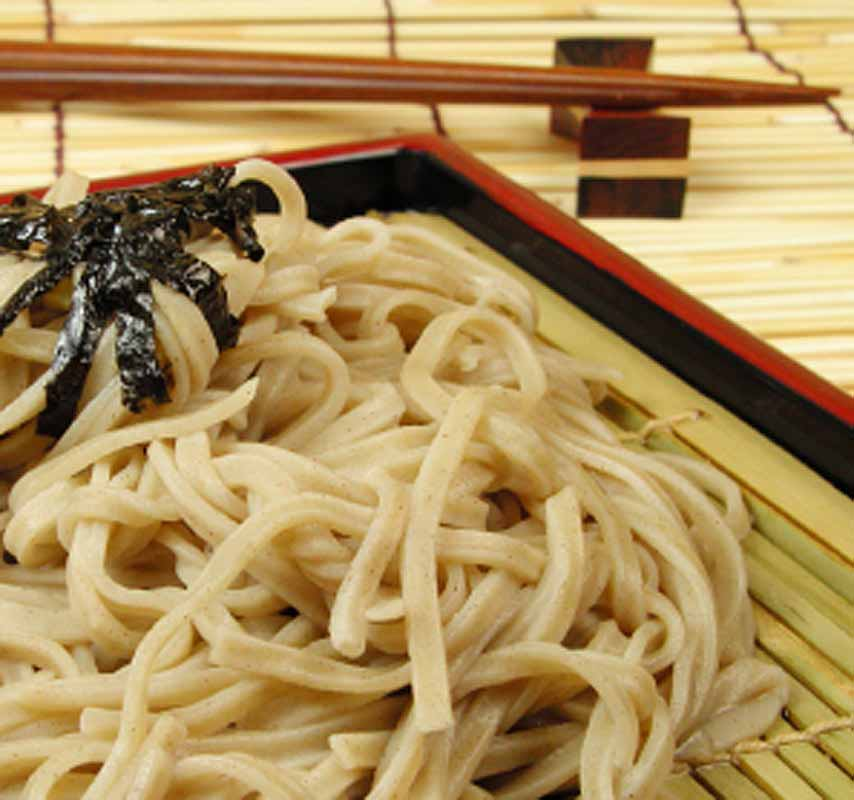Soba: (3, 175, 799, 800)
